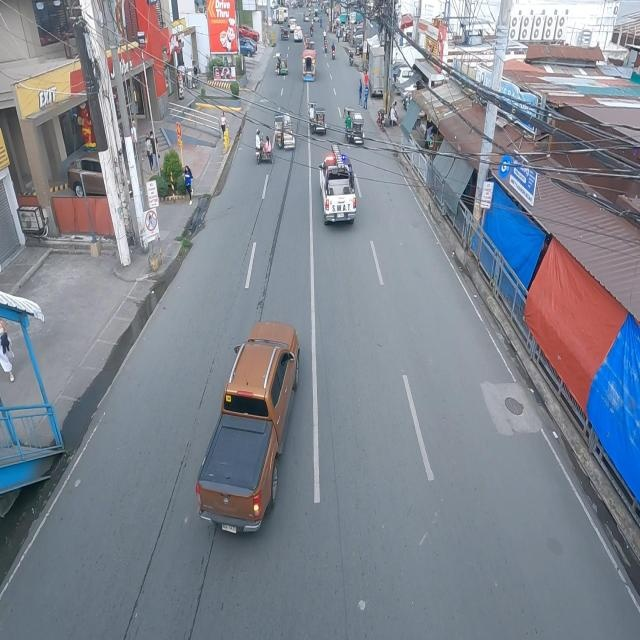Truck: (196, 319, 301, 537)
